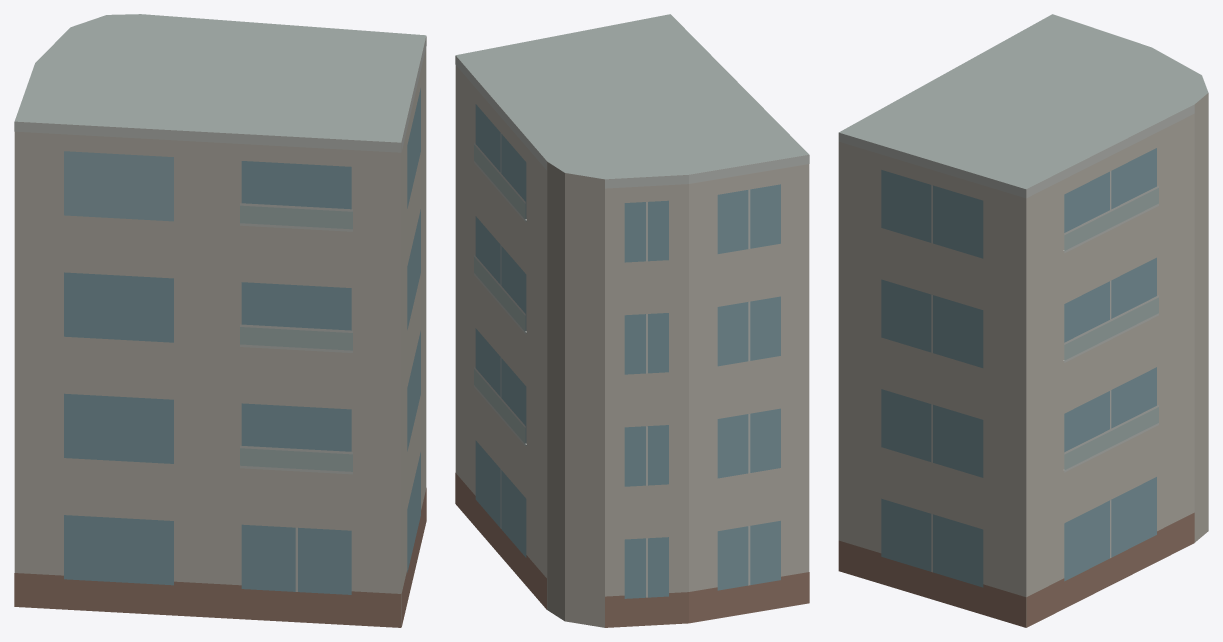
File: survey-upis-32464687.glb
3 views of the same model, side by side, from view 1: azimuth 30°, elevation 25°; view 2: azimuth 150°, elevation 25°; view 3: azimuth 270°, elevation 25° (orthographic). The views are drawn at different scales.
Visible parts, largest first — view 1: survey-upis-32464687.tmp; view 2: survey-upis-32464687.tmp; view 3: survey-upis-32464687.tmp.
Boxes of the visible parts, x1,y1,x2,y2 form: survey-upis-32464687.tmp: (14,14,426,627); survey-upis-32464687.tmp: (455,14,809,627); survey-upis-32464687.tmp: (838,14,1208,627).
Size of the model in its own units: 10.13 by 11.8 by 9.03.
